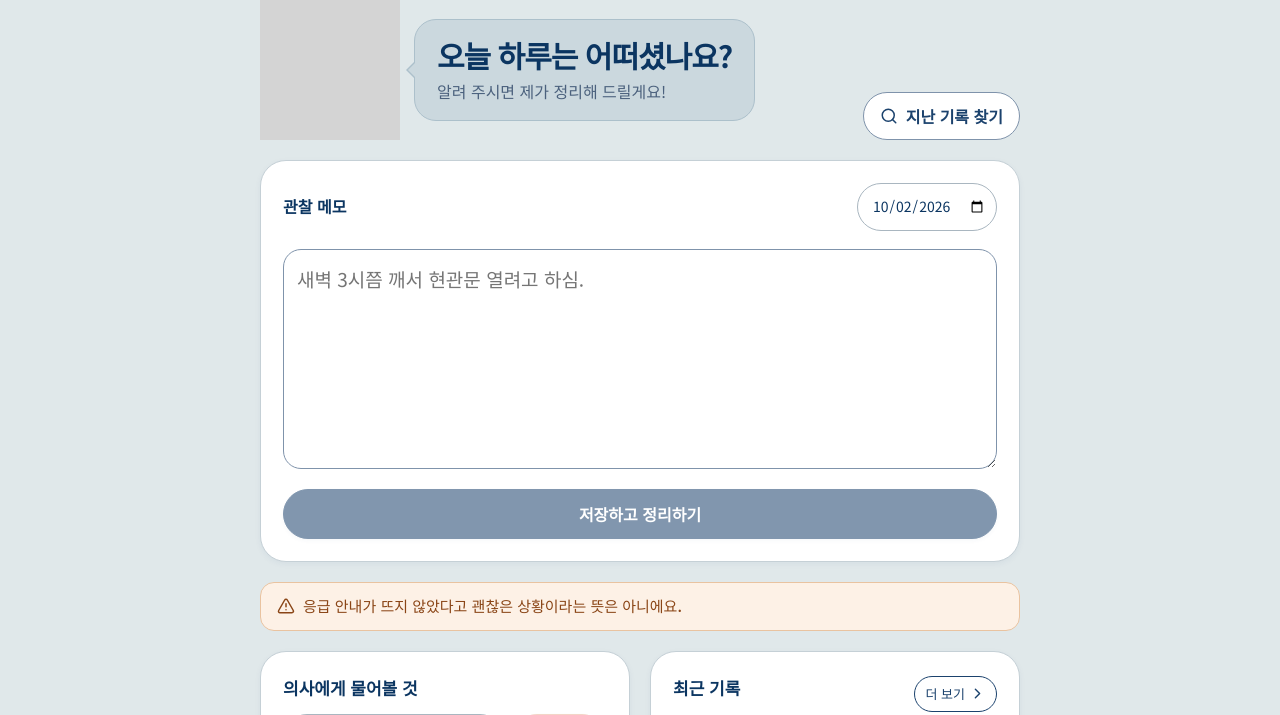
기록: 원문에서 보호자 승인까지 › 확인 완료 메모의 누락 사건 추가가 실패하면 입력을 보존하고 같은 메모에 재시도한다
Click the button "지난 기록 찾기" at (941, 116), box [863,92,1020,140]
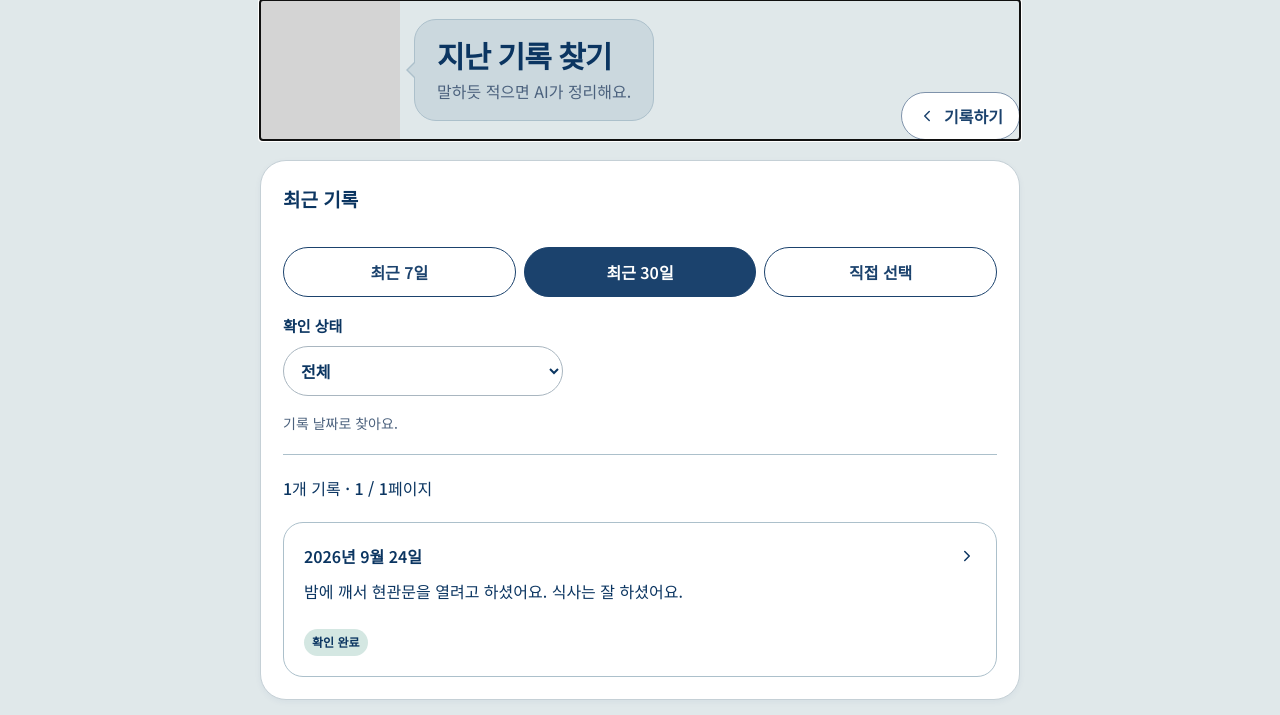
Click the button "2026년 9월 24일 밤에 깨서 현관문을 열려고 하셨어요. 식사는 잘 하셨어요. 확인 완료" at (640, 599), box [283,522,997,677]
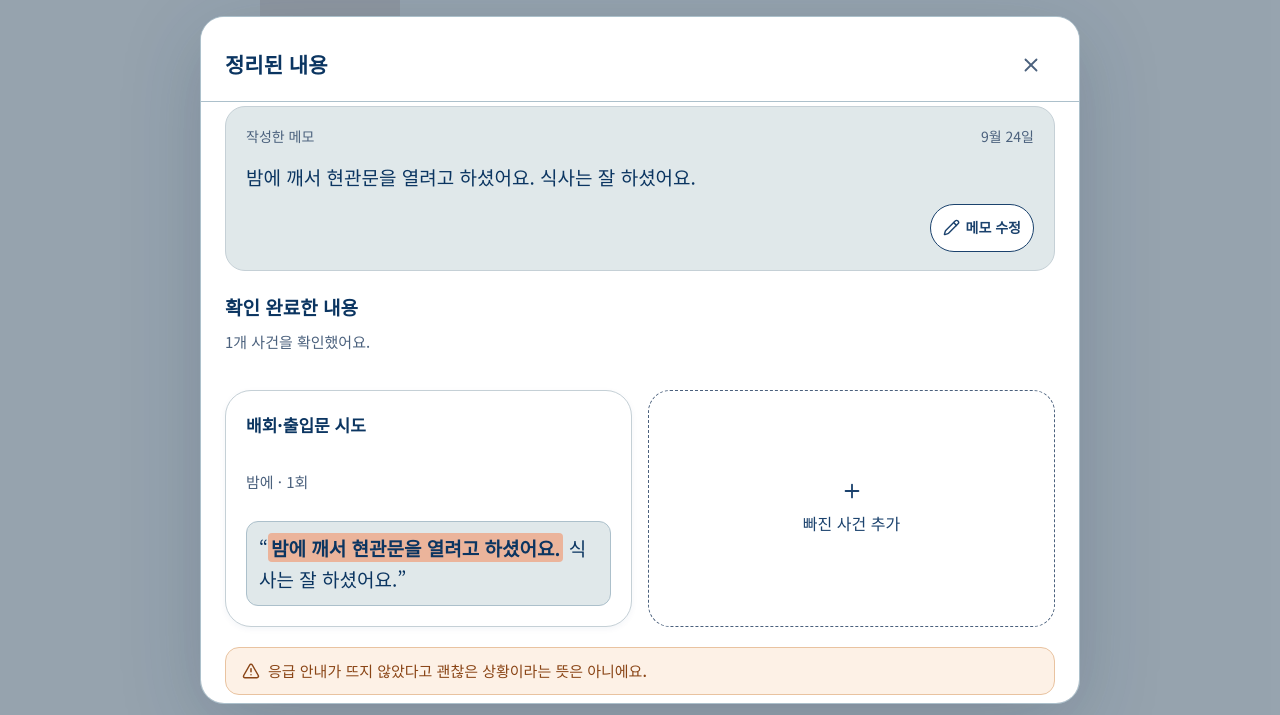
Click the button "빠진 사건 추가" at (852, 508), box [648,390,1055,627]
(page scrolled)
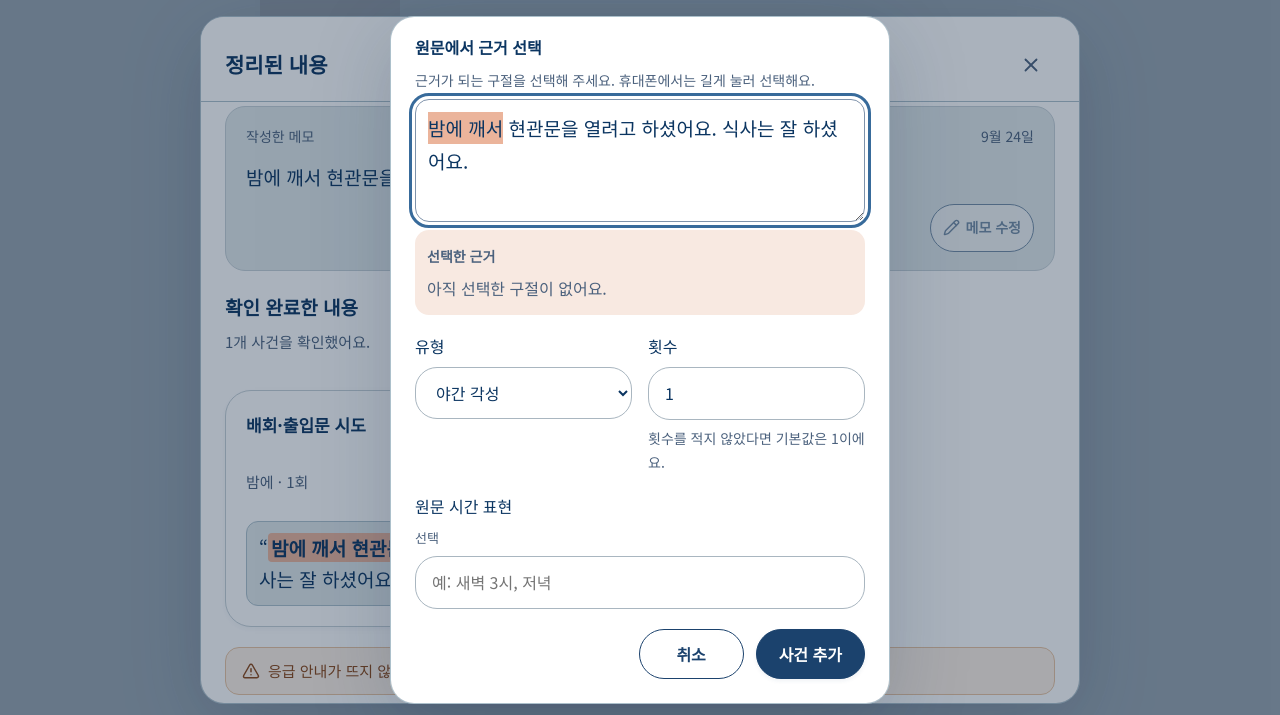
Click the button "사건 추가" at (810, 654), box [756,629,865,679]
(page scrolled)
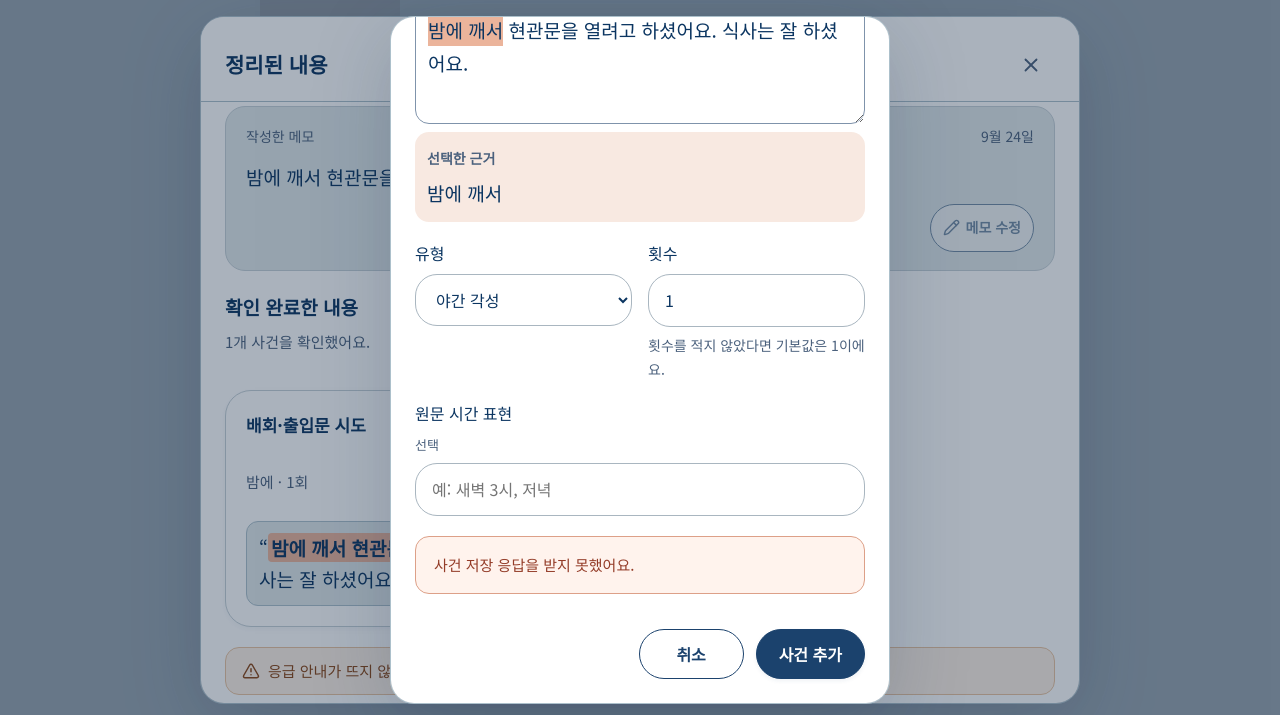
Expected: the element named "확인 완료한 사건" shows "배회·출입문 시도", [246,412,366,437]
Expected: the message shows "사건 저장 응답", [434,554,634,575]
Expected: the element "선택한 근거" shows "밤에 깨서", [427,180,502,206]
Click the button "사건 추가" at (810, 654), box [756,629,865,679]
(page scrolled)
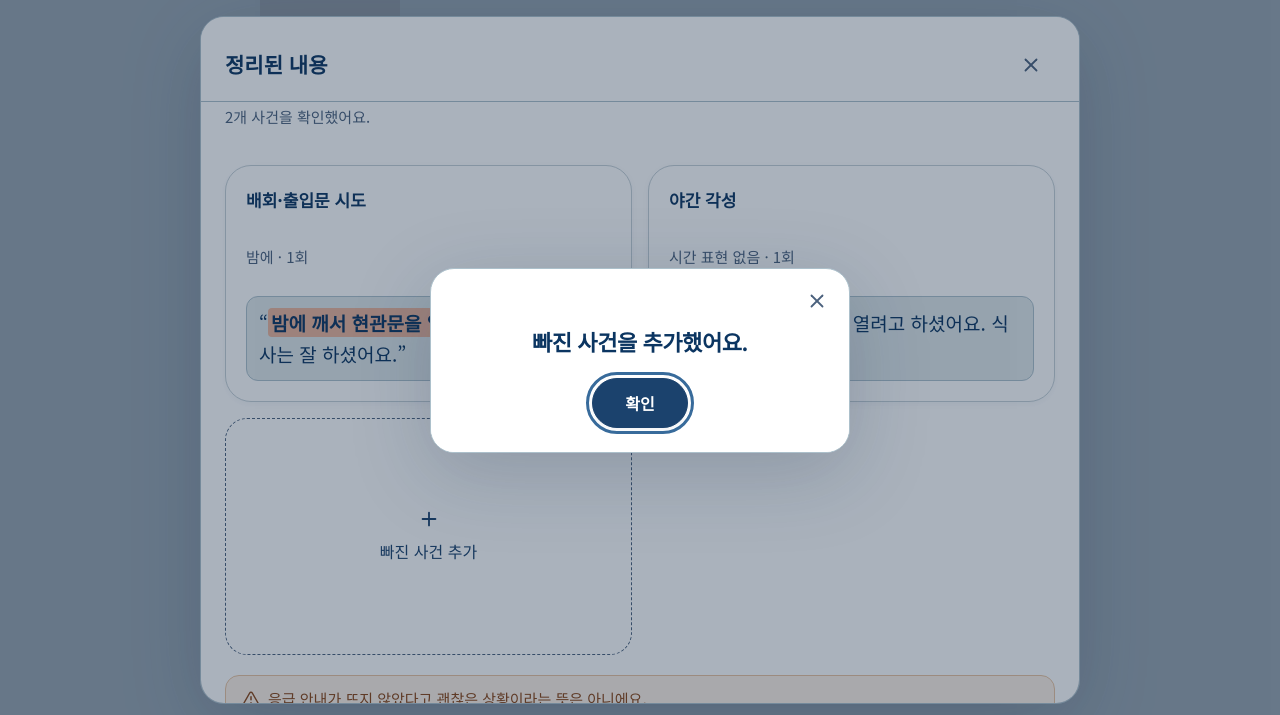
Expected: the text "빠진 사건을 추가했어요." is shown, [532,324,748,356]
Expected: the element named "확인 완료한 사건" shows "2개 사건을 확인했어요.", [225,106,370,127]
Expected: the element named "확인 완료한 사건" shows "시간 표현 없음", [669,246,760,267]
